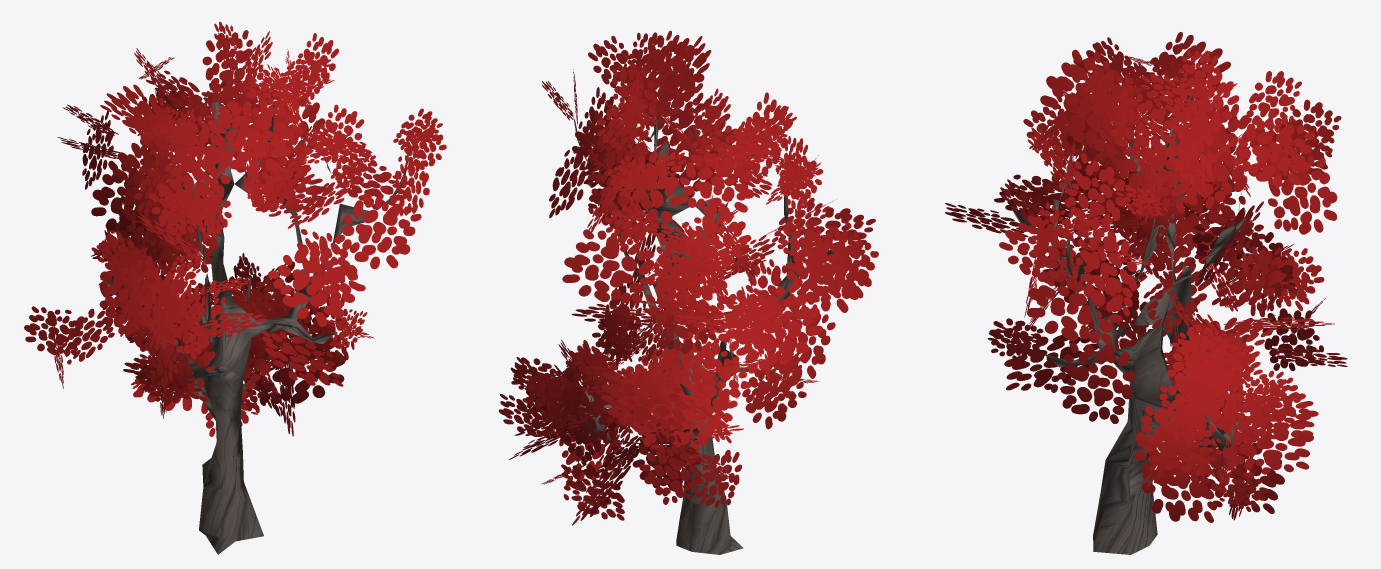
The model's file is TwistedTree_3_L.gltf.
The picture shows the model from 3 angles, left to right: view 1: azimuth 30°, elevation 25°; view 2: azimuth 150°, elevation 25°; view 3: azimuth 270°, elevation 25°; orthographic projection. The views are drawn at different scales.
Visible parts, largest first — view 1: TwistedTree_3_L; view 2: TwistedTree_3_L; view 3: TwistedTree_3_L.
Part boxes in pixels (box(x1,y1,x2,y2)): TwistedTree_3_L: box(24, 22, 446, 554); TwistedTree_3_L: box(498, 30, 878, 554); TwistedTree_3_L: box(945, 32, 1347, 554).
Size of the model in its own units: 11.3 by 16.81 by 12.51.
2 materials, 2 textured.
